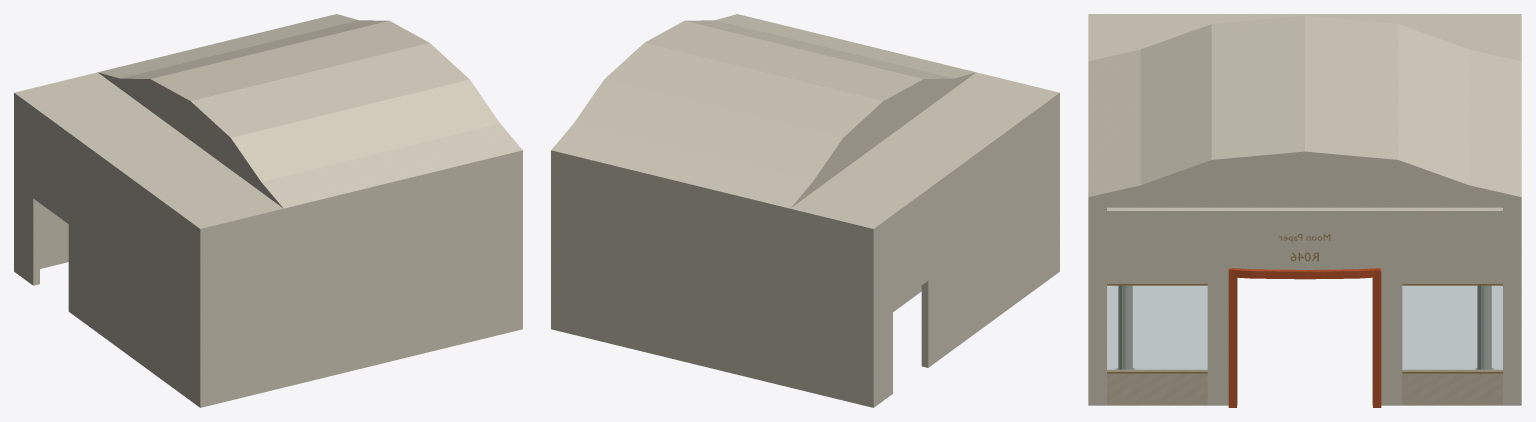
File: SHOP_D09_P100_A262__shell.glb
The picture shows the model from 3 angles, left to right: view 1: azimuth 30°, elevation 25°; view 2: azimuth 150°, elevation 25°; view 3: azimuth 270°, elevation 25°; orthographic projection. The views are drawn at different scales.
Parts seen in each view (by area): view 1: SHOP_D09_P100_A262__shell__ivory_enamel; view 2: SHOP_D09_P100_A262__shell__ivory_enamel; view 3: SHOP_D09_P100_A262__shell__ivory_enamel, SHOP_D09_P100_A262__shell__shop_glass, SHOP_D09_P100_A262__shell__warm_stone, SHOP_D09_P100_A262__shell__retail_terracotta_enamel, SHOP_D09_P100_A262__shell__champagne_metal.
Boxes of the visible parts, <box> form: SHOP_D09_P100_A262__shell__ivory_enamel: <box>14,14,522,407</box>; SHOP_D09_P100_A262__shell__ivory_enamel: <box>551,14,1059,407</box>; SHOP_D09_P100_A262__shell__ivory_enamel: <box>1088,14,1521,405</box>; SHOP_D09_P100_A262__shell__shop_glass: <box>1107,286,1502,370</box>; SHOP_D09_P100_A262__shell__warm_stone: <box>1107,368,1502,405</box>; SHOP_D09_P100_A262__shell__retail_terracotta_enamel: <box>1228,268,1381,407</box>; SHOP_D09_P100_A262__shell__champagne_metal: <box>1107,234,1502,373</box>.
Size of the model in its own units: 11.86 by 7.5 by 11.6.
Materials: 6 (4 with a texture image).
